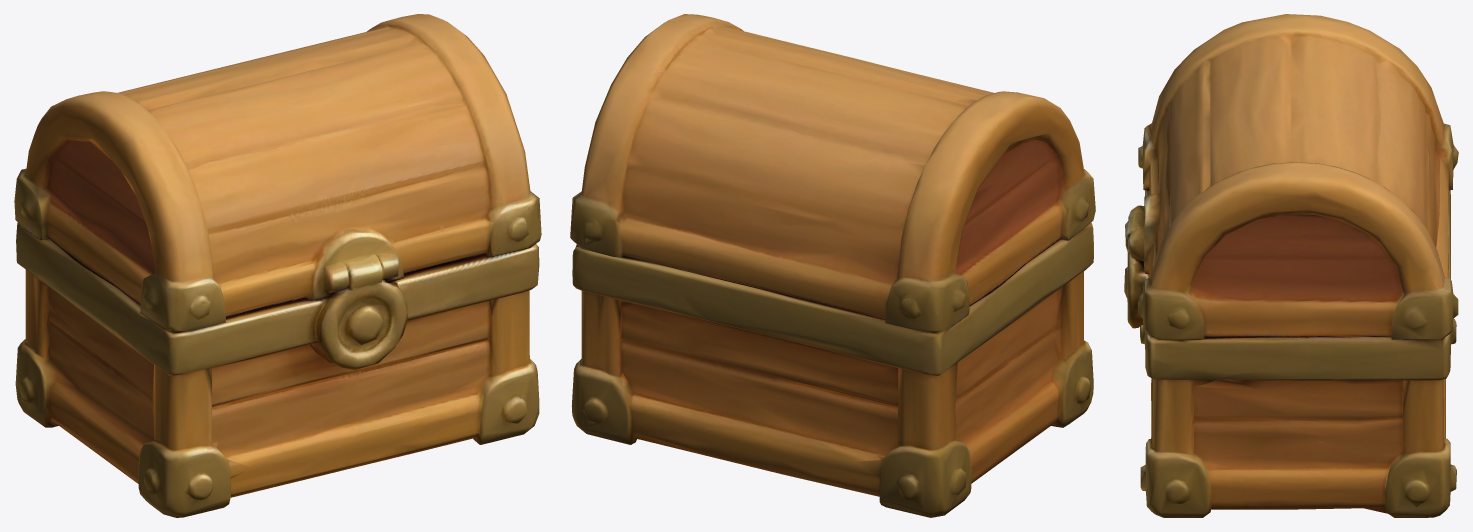
The model's file is chest.glb.
The picture shows the model from 3 angles, left to right: view 1: azimuth 30°, elevation 25°; view 2: azimuth 150°, elevation 25°; view 3: azimuth 270°, elevation 25°; orthographic projection. The views are drawn at different scales.
Parts seen in each view (by area): view 1: tripo_node_0c02ca11-9f75-4515-aea4-2d2aed10fa0f; view 2: tripo_node_0c02ca11-9f75-4515-aea4-2d2aed10fa0f; view 3: tripo_node_0c02ca11-9f75-4515-aea4-2d2aed10fa0f.
Boxes of the visible parts, bbox=[...] form: tripo_node_0c02ca11-9f75-4515-aea4-2d2aed10fa0f: bbox=[14, 14, 541, 517]; tripo_node_0c02ca11-9f75-4515-aea4-2d2aed10fa0f: bbox=[570, 14, 1095, 517]; tripo_node_0c02ca11-9f75-4515-aea4-2d2aed10fa0f: bbox=[1124, 14, 1458, 517].
Bounding box in the file's own units: 0.9994 × 0.8869 × 0.7879.
Materials: 1 (1 with a texture image).
